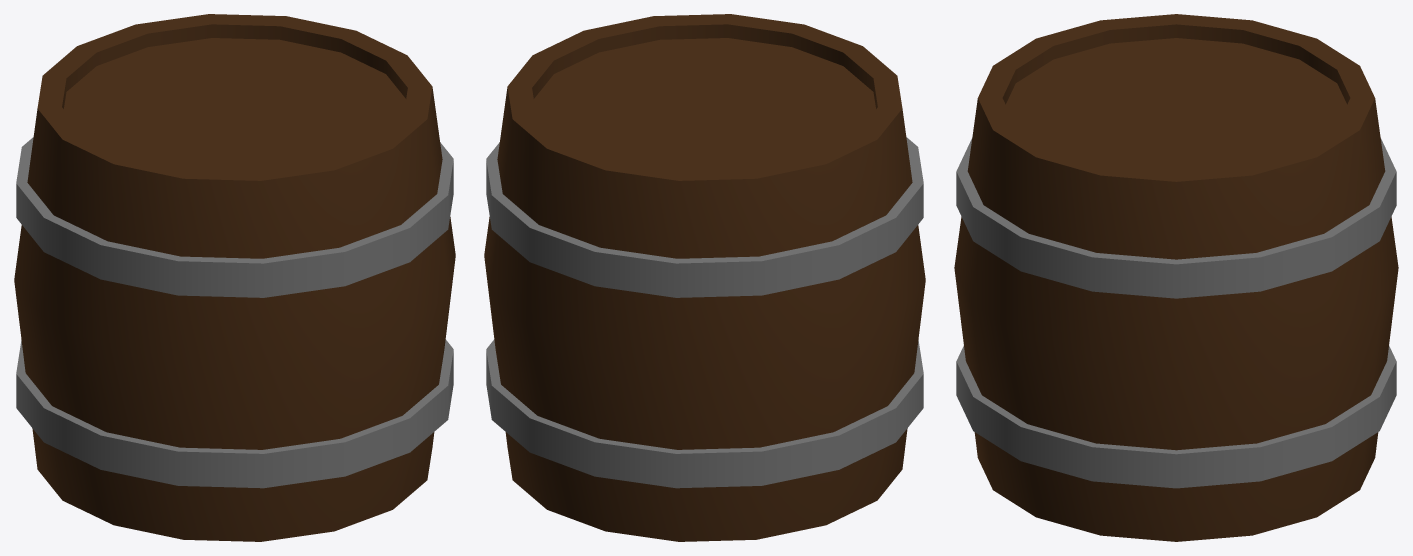
File: BoatBarrel.glb
3 views of the same model, side by side, from view 1: azimuth 30°, elevation 25°; view 2: azimuth 150°, elevation 25°; view 3: azimuth 270°, elevation 25° (orthographic).
Visible parts, largest first — view 1: Cylinder.012; view 2: Cylinder.012; view 3: Cylinder.012.
Part boxes in pixels (<box>): Cylinder.012: <box>14,14,455,541</box>; Cylinder.012: <box>484,14,925,541</box>; Cylinder.012: <box>954,14,1398,541</box>.
Bounding box in the file's own units: 2.24 × 2 × 2.24.
